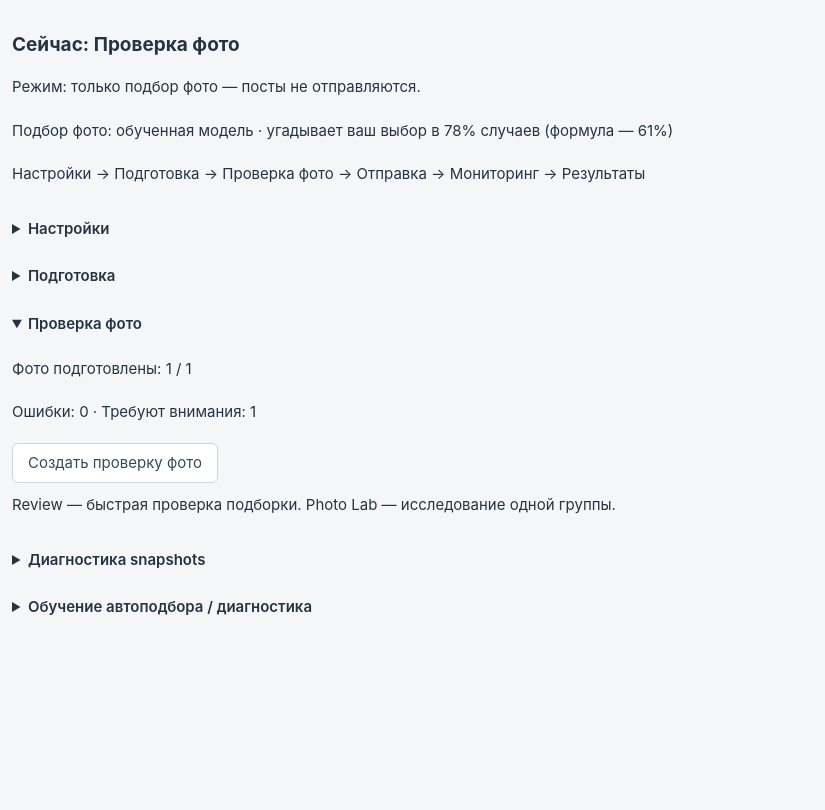
Test: shows the one working model and offers no ranking switch
Expected: the text "Подбор фото: обученная модель · угадывает ваш выбор в 78% случаев (формула — 61%)" is shown, [12,121,673,140]
Click the heading "Обучение автоподбора / диагностика" at (170, 607), box [28,597,312,616]
(page scrolled)
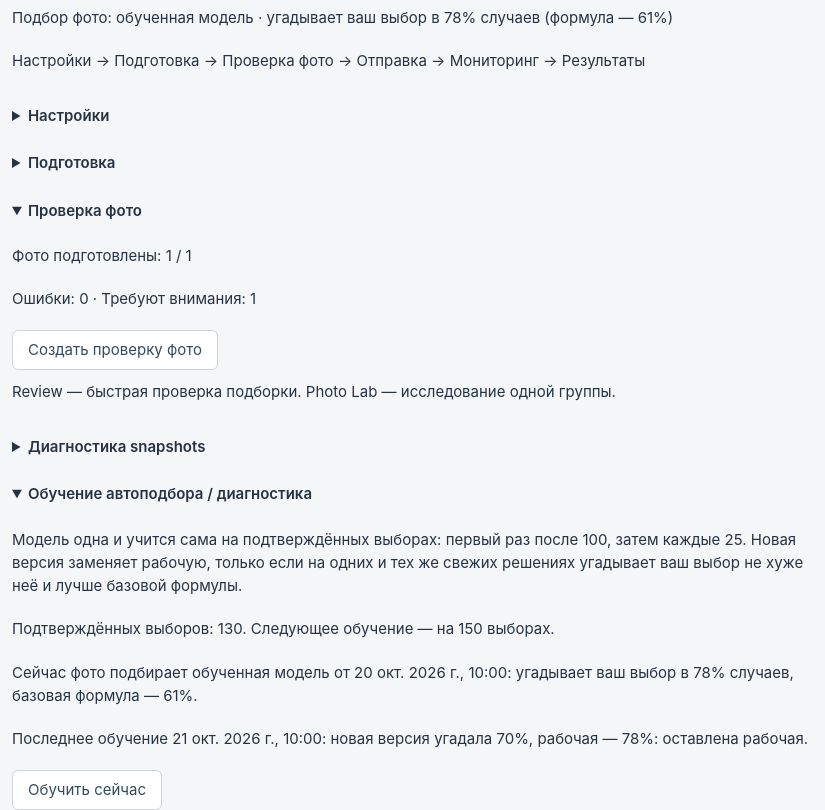
Result: the text "Следующее обучение — на 150 выборах" is shown at [251,619,555,638]
Result: the text "новая версия угадала 70%, рабочая — 78%: оставлена рабочая" is shown at [330,729,808,748]
Result: the button "Обучить сейчас" is enabled at [12,770,162,809]
